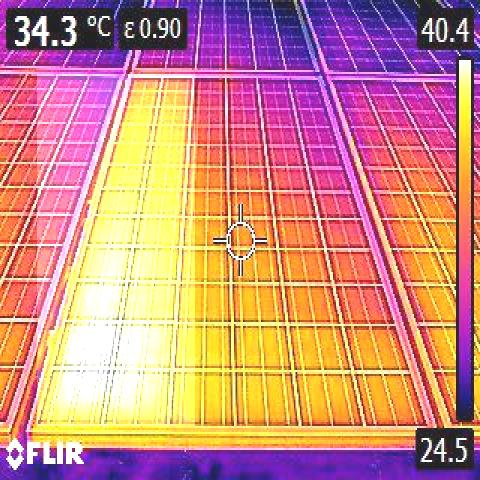fault: (38, 74, 196, 426)
